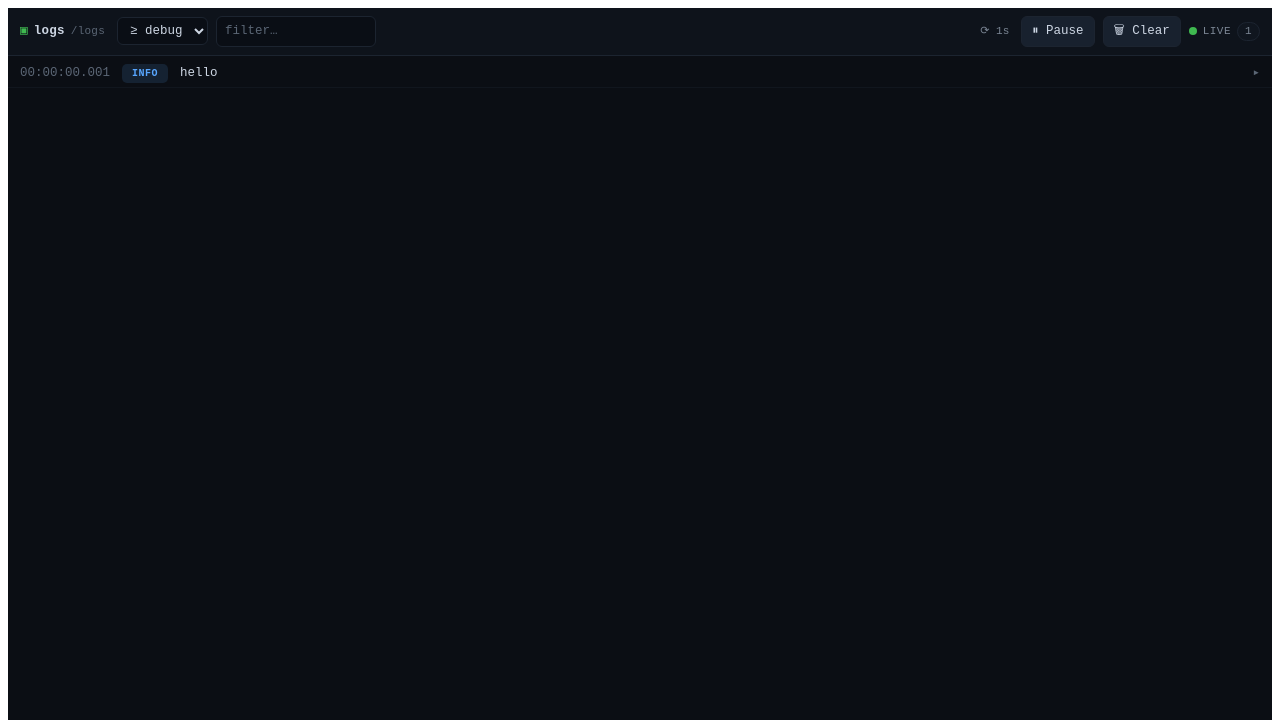
Test: polls config.basePath, renders rows, and expands structured data on click
This screenshot has width=1280, height=720.
Expected: the text "hello" is shown, [180, 66, 218, 80]
Click the button "00:00:00.001 info hello ▸". click: (65, 73)
box: [8, 60, 1272, 87]
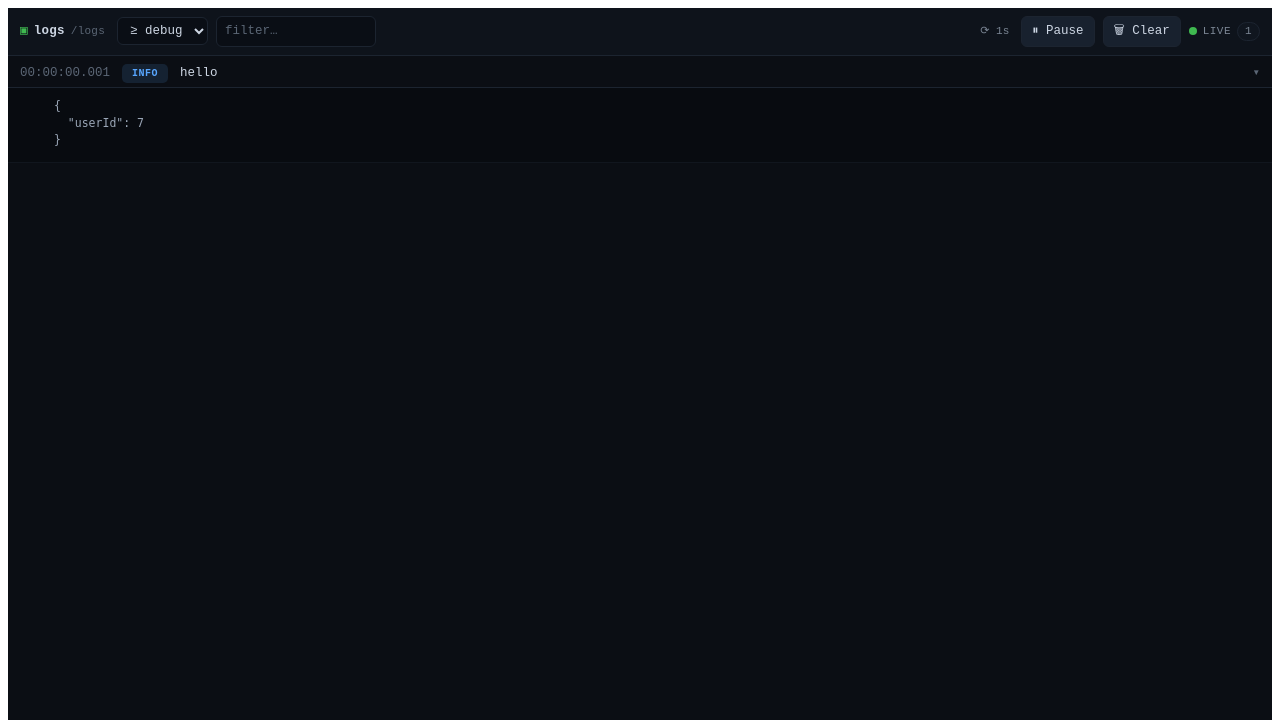
Now the text "{ \"userId\": 7 }" is shown, box [8, 87, 1272, 162]
